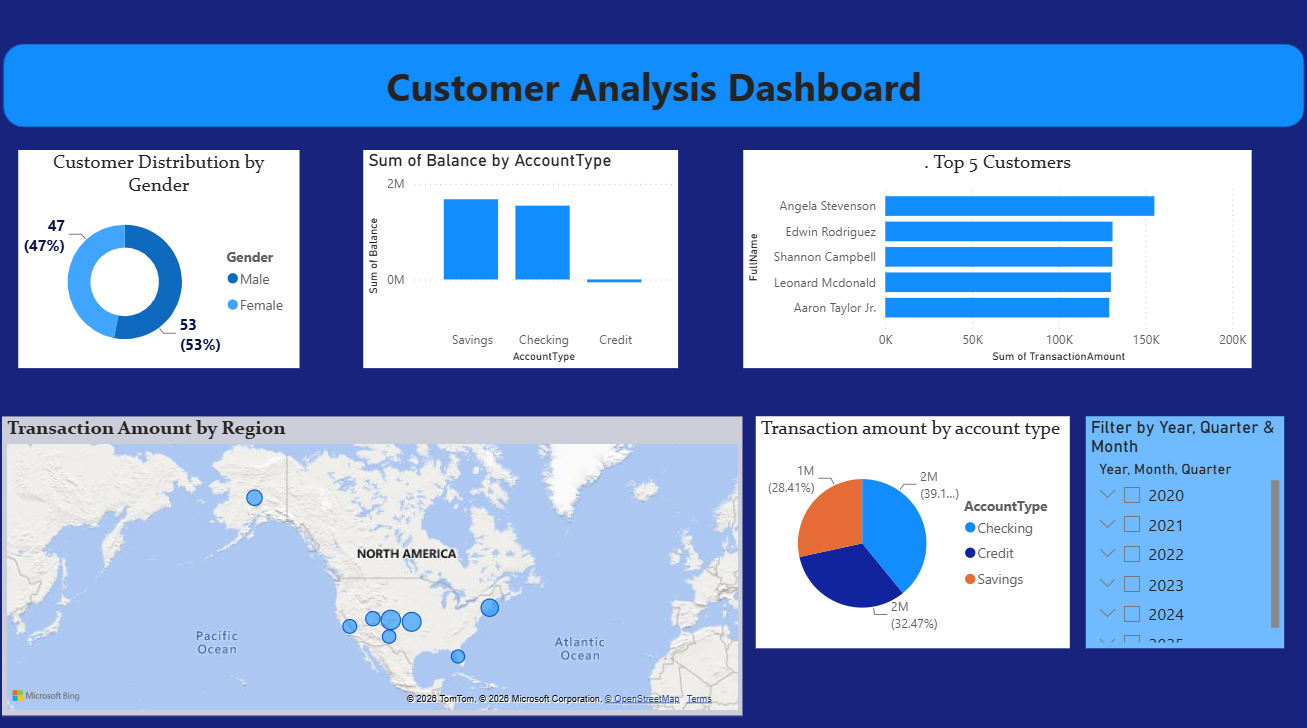

Layout of this report page (visuals, bound fields, positions):
{"tool":"powerbi","page":{"name":"Page 3","canvas":[1280,720],"ordinal":2},"visuals":[{"type":"shape","box":[5.6,42.6,1270.4,81.5],"z":0},{"type":"donutChart","title":"Customer Distribution by Gender","fields":{"Category":["DimCustomer.Gender"],"Y":["CountNonNull(DimCustomer.CustomerID)"]},"box":[20.4,146.3,274.1,213],"z":1000},{"type":"clusteredColumnChart","fields":{"Category":["DimAccount.AccountType"],"Y":["Sum(DimAccount.Balance)"]},"box":[357.4,146.3,307.4,213],"z":2000},{"type":"clusteredBarChart","title":". Top 5 Customers","fields":{"Category":["DimCustomer.FullName"],"Y":["Sum(facttran.TransactionAmount)"]},"box":[727.8,146.3,496.3,213],"z":3000},{"type":"pieChart","title":"Transaction amount by account type","fields":{"Category":["DimAccount.AccountType"],"Y":["Sum(facttran.TransactionAmount)"]},"box":[740.4,405.8,306.1,226],"z":4000},{"type":"slicer","title":"Filter by Year, Quarter & Month","fields":{"Values":["facttran.TransactionDate.Variation.Date Hierarchy.Year","facttran.TransactionDate.Variation.Date Hierarchy.Month","facttran.TransactionDate.Variation.Date Hierarchy.Quarter"]},"box":[1062.5,405.8,194,226],"z":5000},{"type":"map","title":"Transaction Amount by Region","fields":{"Category":["DimCustomerUSA.Region"],"Size":["Sum(facttran.TransactionAmount)"]},"box":[5.3,405.8,722.6,291.9],"z":6000}]}

Visuals, with their boxes in screenshot pixels (x1, y1, x2, y2), scaled from the page's 1280x720 canvas onto the 1307x728 screenshot:
shape: l=6, t=43, r=1303, b=125
"Customer Distribution by Gender" donutChart: l=21, t=148, r=301, b=363
clusteredColumnChart - DimAccount.AccountType x Sum(DimAccount.Balance): l=365, t=148, r=679, b=363
". Top 5 Customers" clusteredBarChart: l=743, t=148, r=1250, b=363
"Transaction amount by account type" pieChart: l=756, t=410, r=1069, b=639
"Filter by Year, Quarter & Month" slicer: l=1085, t=410, r=1283, b=639
"Transaction Amount by Region" map: l=5, t=410, r=743, b=705
